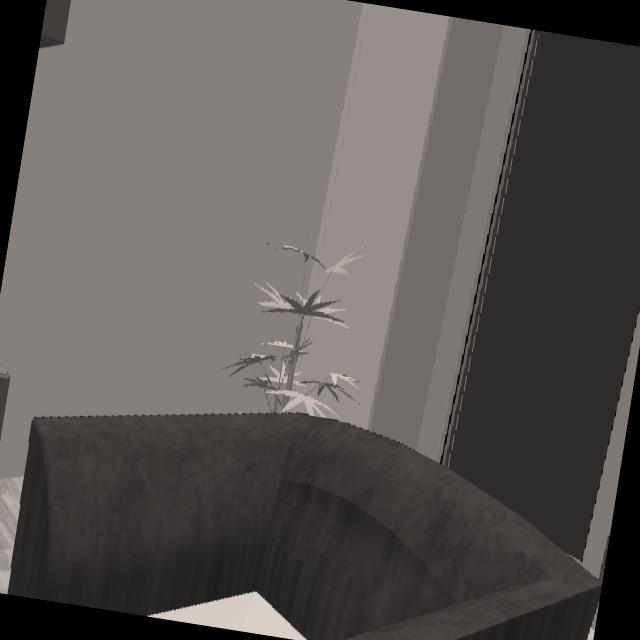sofa: (10, 413, 600, 640)
